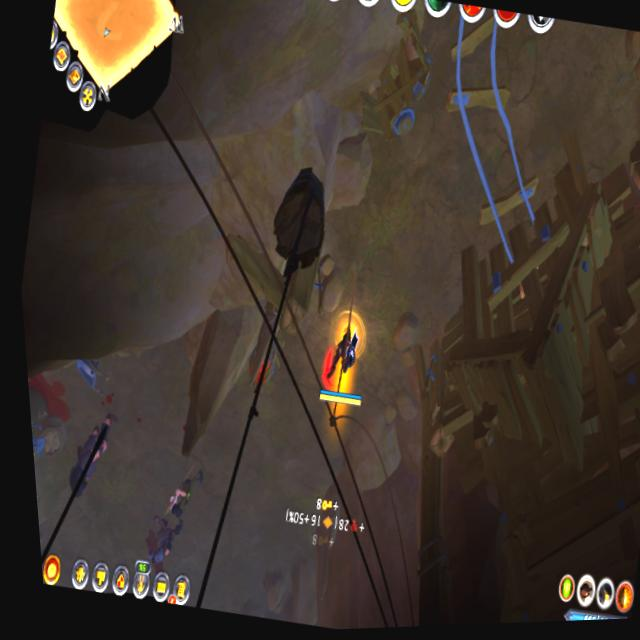ore: (57, 398, 129, 503), (137, 506, 191, 575), (156, 461, 211, 528)
red: (307, 309, 386, 423)
